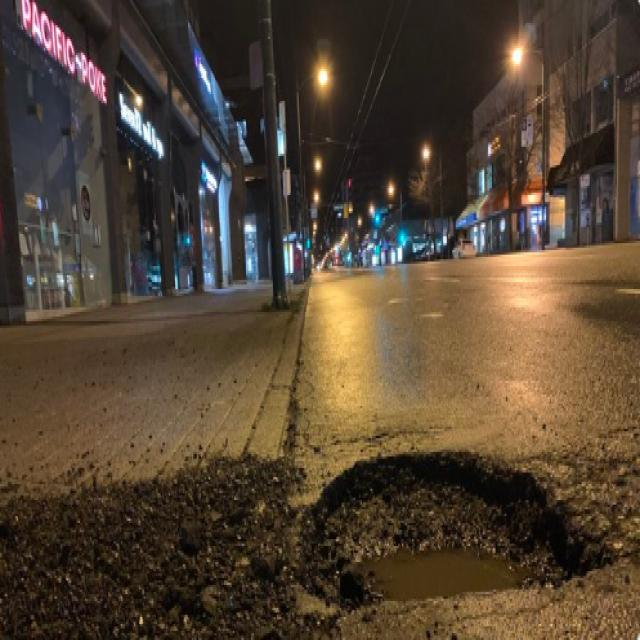Pothole: (296, 452, 616, 613)
